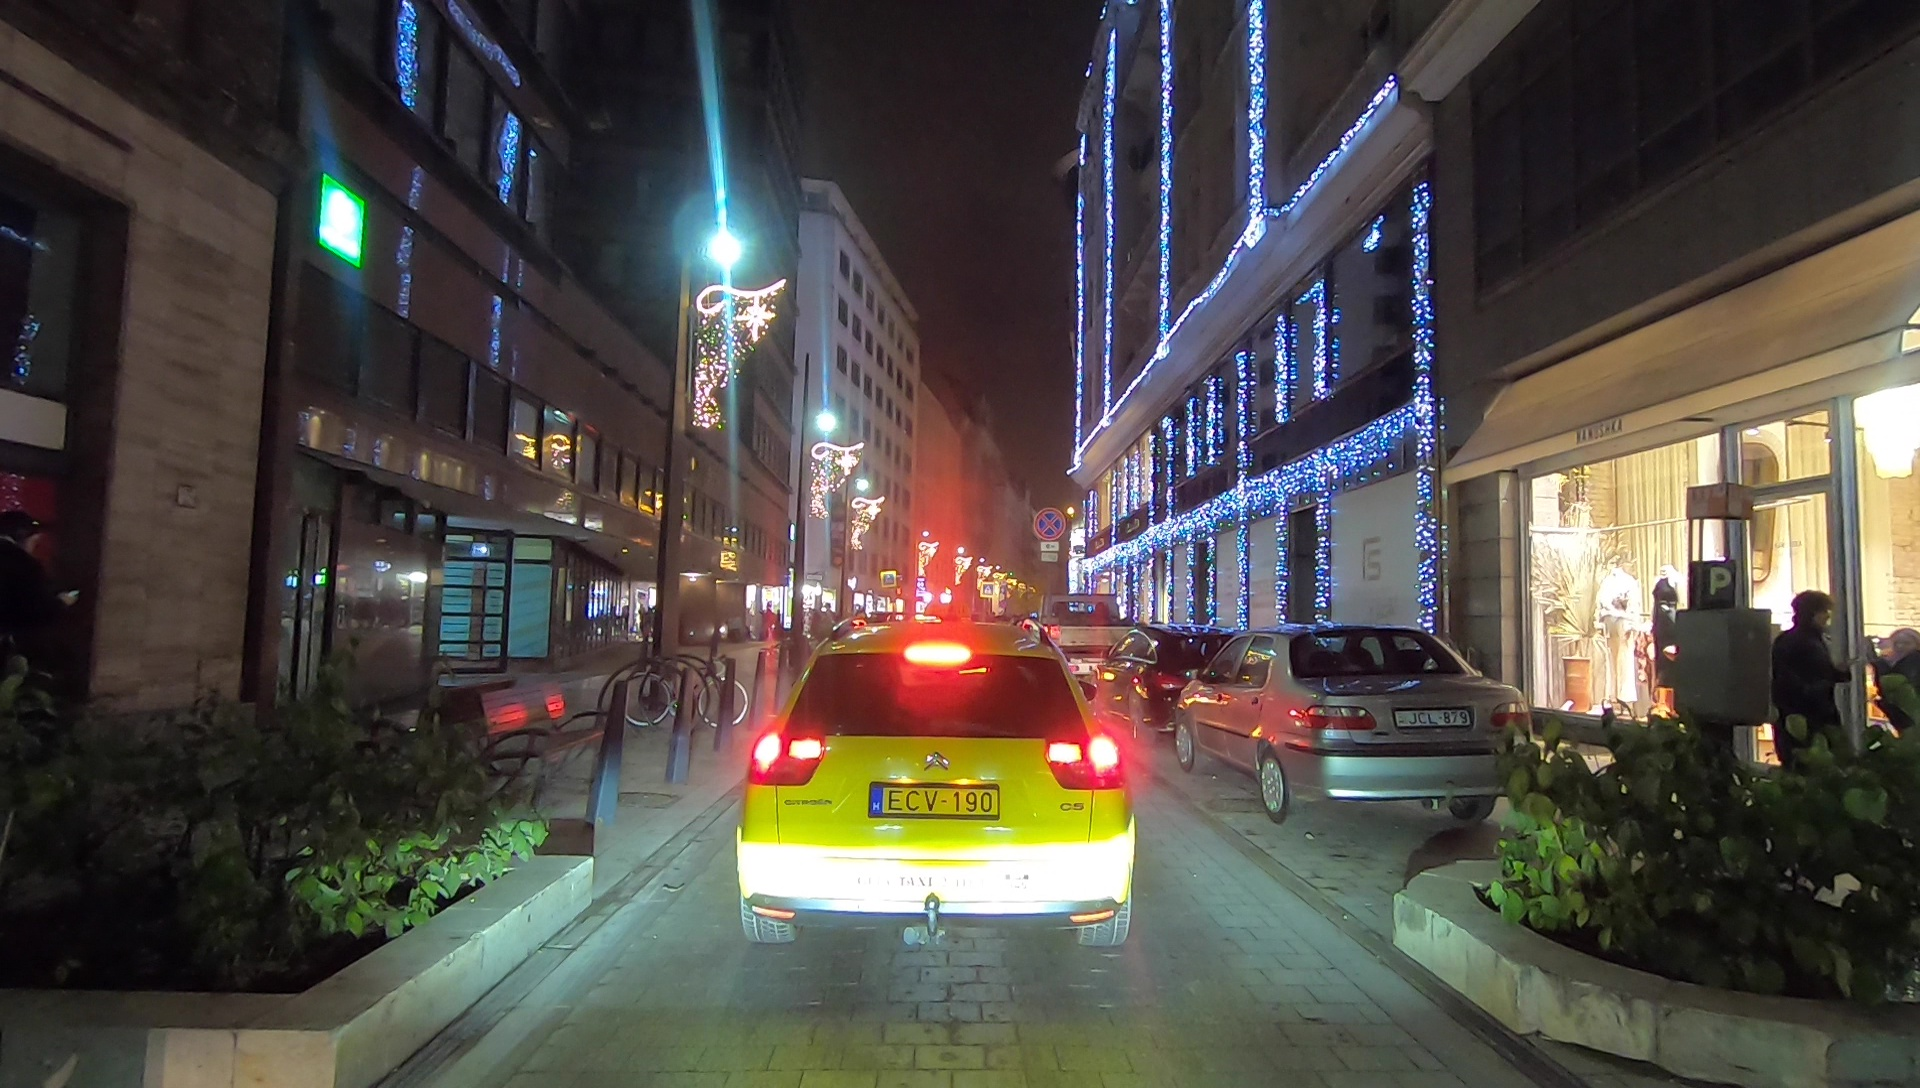person: (1767, 586, 1851, 813), (1860, 617, 1920, 807)
